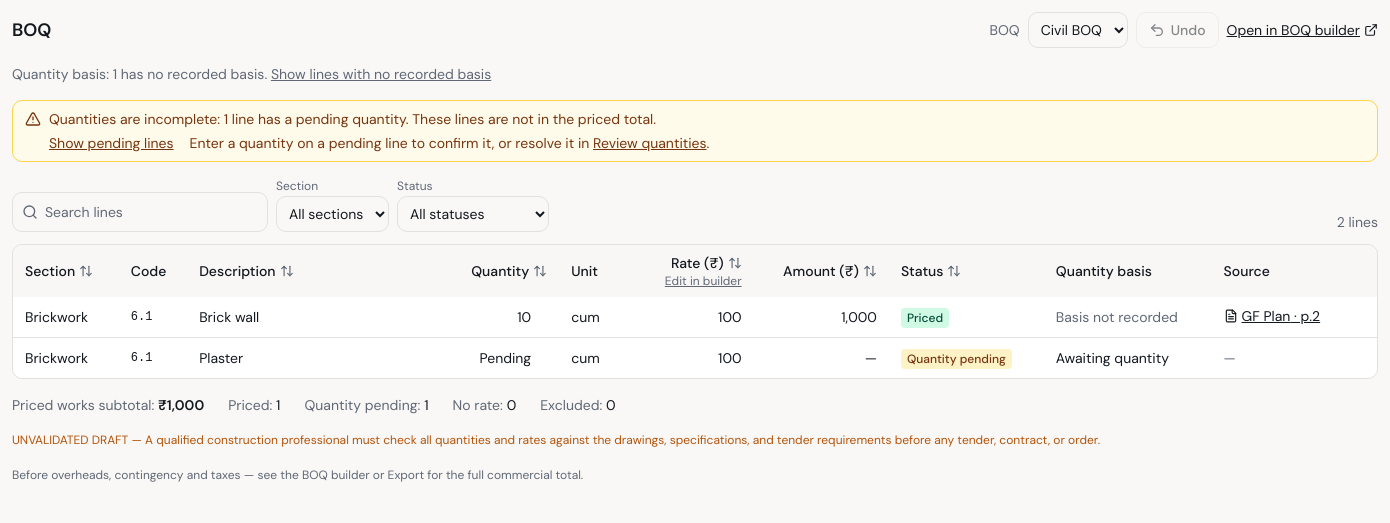
ProjectBoq — guarded, recorded quantity edits › workbench: a stale newest step does not block an earlier step on another line
Click the button "10" at (506, 317), box 460,305 -> 551,329
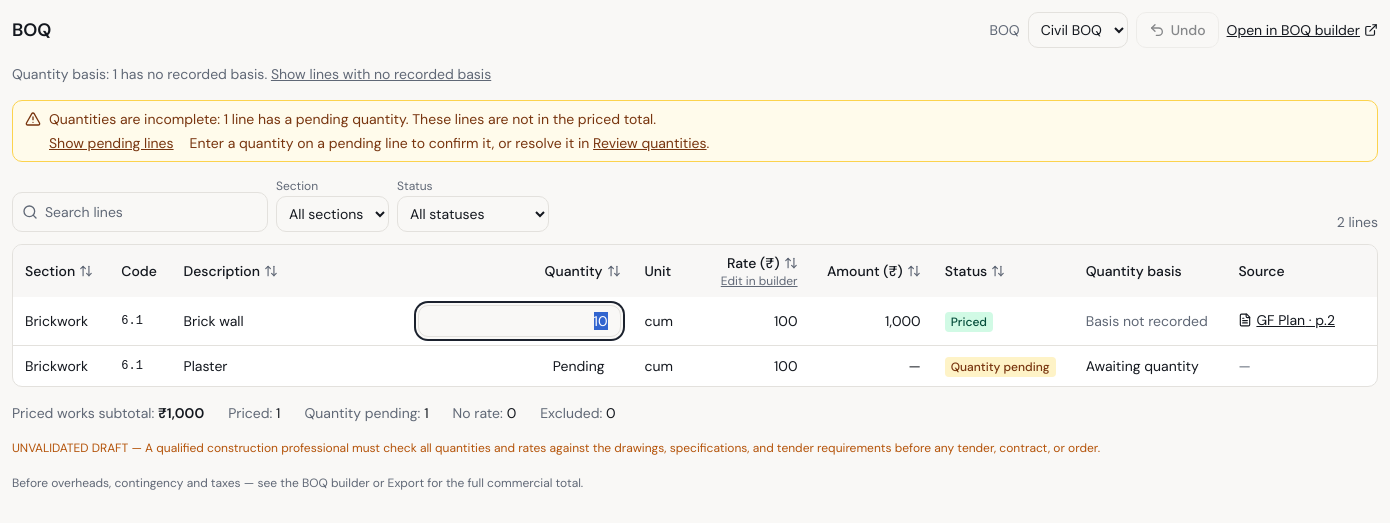
Replace the text in the field named "Quantity for Brick wall" with "12" at (519, 321), box 418,305 -> 621,337
Press Enter in the field named "Quantity for Brick wall", box 418,305 -> 621,337
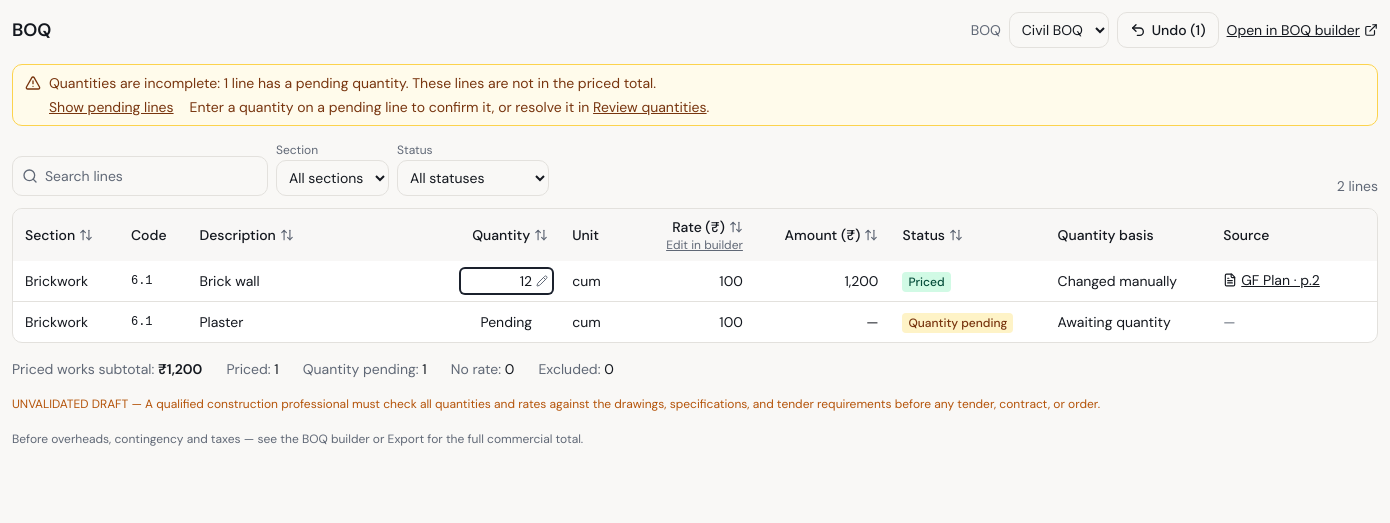
Click the button "Pending" at (507, 322), box 461,310 -> 552,334
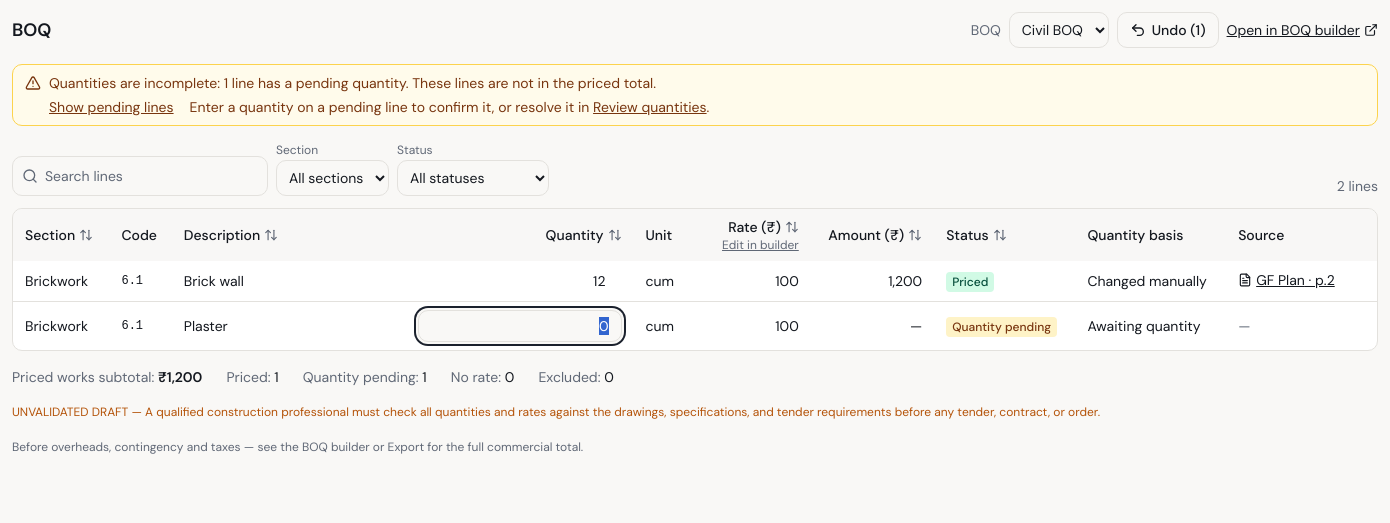
Replace the text in the field named "Quantity for Plaster" with "45" at (520, 326), box 418,310 -> 622,342
Press Enter in the field named "Quantity for Plaster", box 418,310 -> 622,342
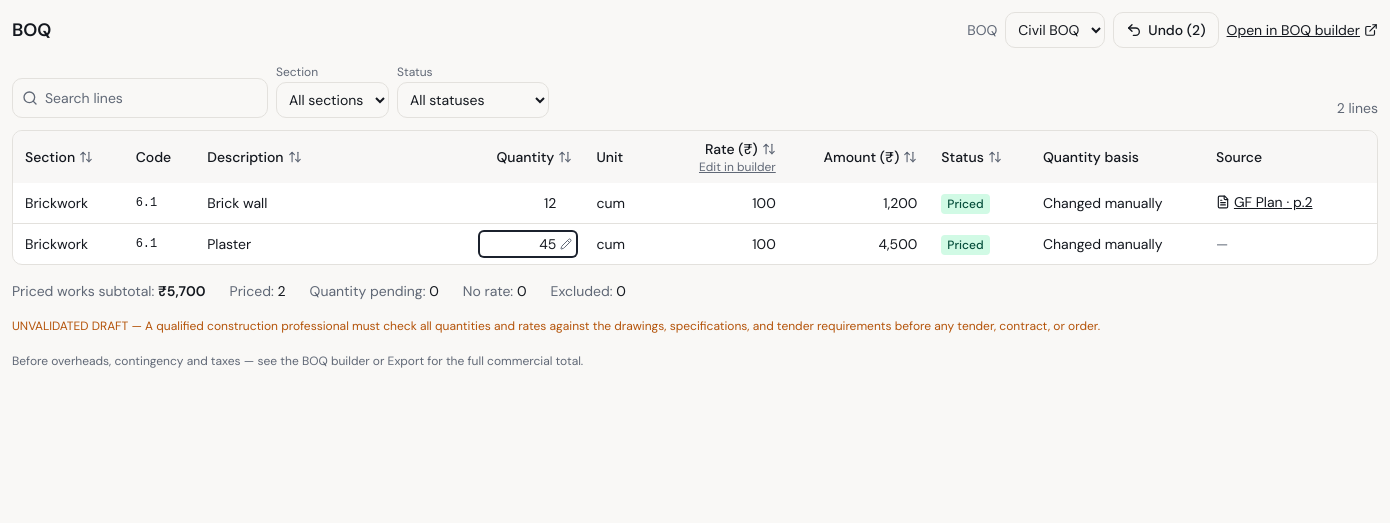
Click the button with aria-label "Undo: Quantity of “Plaster”" at (1166, 30), box 1113,12 -> 1218,48
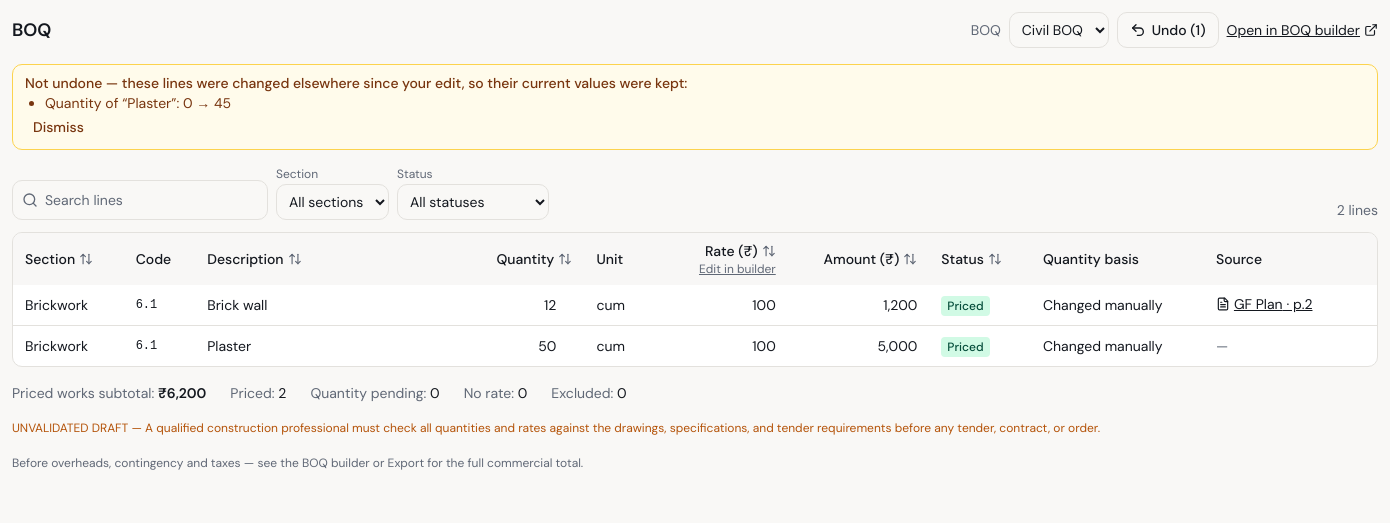
Click the button with aria-label "Undo: Quantity of “Brick wall”" at (1168, 30), box 1117,12 -> 1218,48
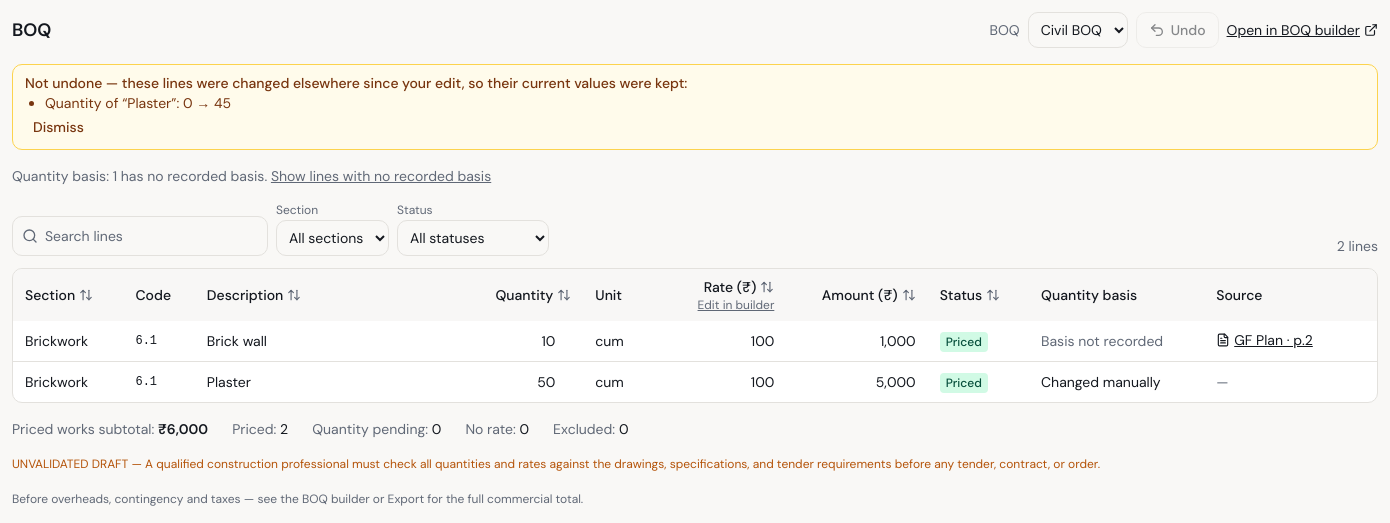
Expected: the element named "Changes that could not be undone" shows "Plaster", 45,94 -> 231,112
Expected: the button with aria-label "Undo (nothing to undo)" is disabled, 1136,12 -> 1218,48
